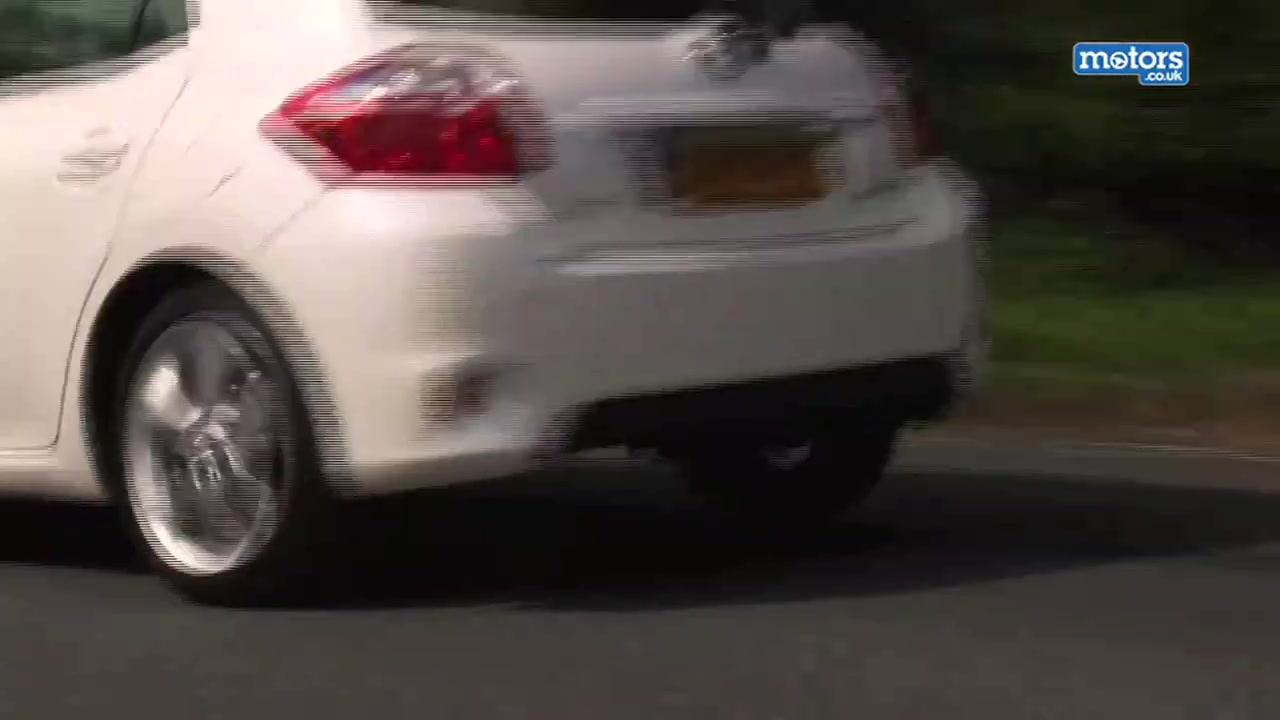car: (4, 1, 988, 618)
